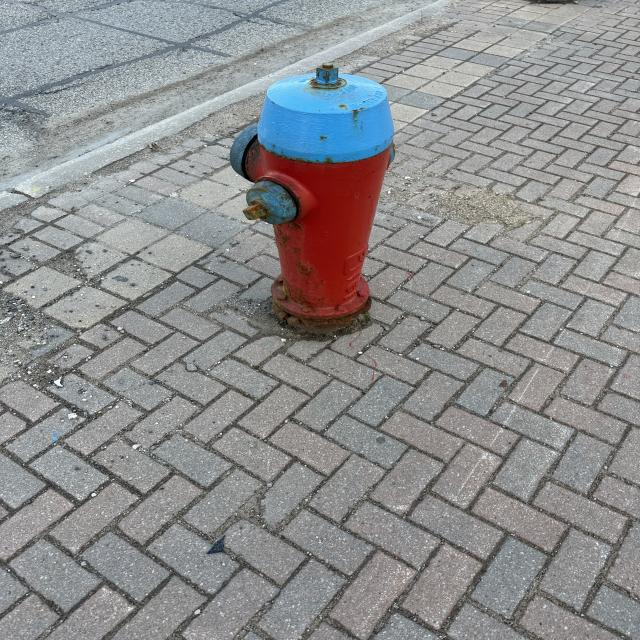Fire hydrant: (229, 62, 397, 334)
